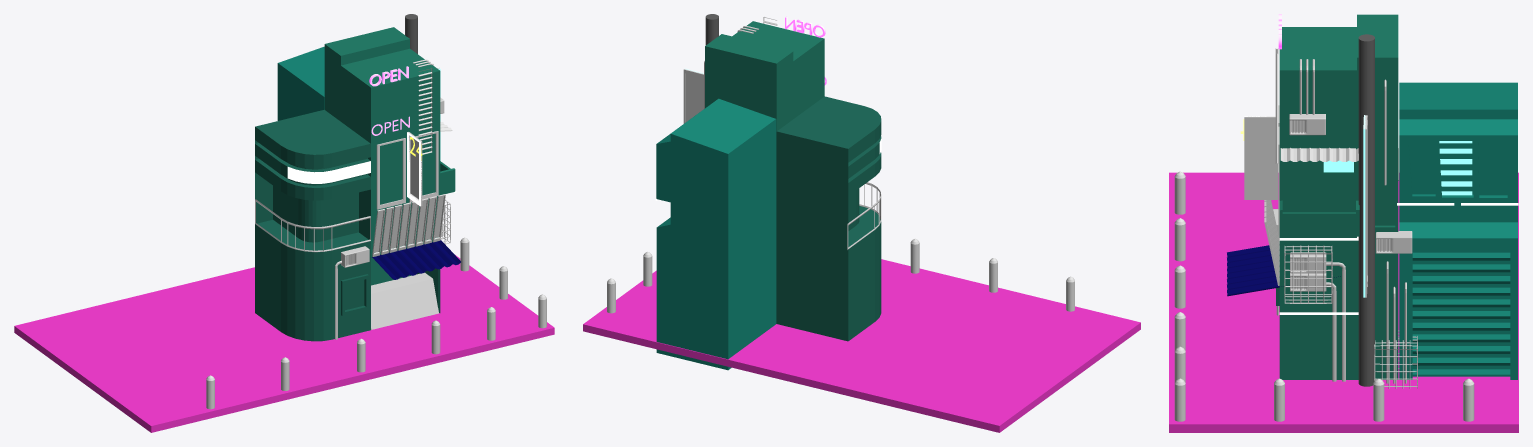
File: CYBER.glb
3 views of the same model, side by side, from view 1: azimuth 30°, elevation 25°; view 2: azimuth 150°, elevation 25°; view 3: azimuth 270°, elevation 25° (orthographic). The views are drawn at different scales.
Parts seen in each view (by area): view 1: Cube.004, Cube.002, Cube.001, Cube.003, Cube.013, Plane, Cube.034, Cube.014, Plane.010, Plane.011, Plane.014; view 2: Cube.004, Cube.003, Cube.002, Cube.001, Plane.012, Cube.014; view 3: Cube.004, Cube.003, Cube.001, Cylinder.038, Plane.011, Plane, Cube.011, Plane.013, Cube.010, Cube.012, Cube.015, Cube.009 (+17 smaller).
Boxes of the visible parts, left/top/right/bottom form: Cube.004: left=14, top=255, right=554, bottom=432; Cube.002: left=255, top=109, right=370, bottom=341; Cube.001: left=324, top=27, right=455, bottom=312; Cube.003: left=277, top=46, right=324, bottom=120; Cube.013: left=371, top=272, right=438, bottom=329; Plane: left=372, top=240, right=460, bottom=279; Cube.034: left=287, top=161, right=370, bottom=183; Cube.014: left=255, top=199, right=370, bottom=252; Plane.010: left=376, top=138, right=405, bottom=209; Plane.011: left=408, top=132, right=422, bottom=206; Plane.014: left=418, top=68, right=432, bottom=154; Cube.004: left=583, top=259, right=1140, bottom=432; Cube.003: left=656, top=98, right=776, bottom=370; Cube.002: left=776, top=96, right=881, bottom=341; Cube.001: left=705, top=21, right=824, bottom=323; Plane.012: left=683, top=69, right=703, bottom=123; Cube.014: left=847, top=182, right=881, bottom=249; Cube.004: left=1169, top=172, right=1518, bottom=432; Cube.003: left=1399, top=82, right=1517, bottom=379; Cube.001: left=1279, top=14, right=1398, bottom=379; Cylinder.038: left=1358, top=34, right=1374, bottom=386; Plane.011: left=1244, top=116, right=1277, bottom=199; Plane: left=1227, top=245, right=1340, bottom=296; Cube.011: left=1284, top=245, right=1332, bottom=303; Plane.013: left=1280, top=147, right=1358, bottom=161; Cube.010: left=1374, top=330, right=1417, bottom=388; Cube.012: left=1375, top=231, right=1412, bottom=253; Cube.015: left=1289, top=114, right=1325, bottom=135; Cube.009: left=1290, top=252, right=1326, bottom=273.
Bounding box in the file's own units: 10.03 × 6.68 × 5.9.
